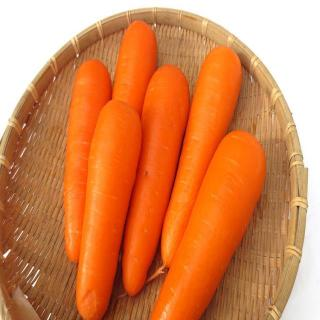carrot: (149, 130, 265, 320), (157, 42, 241, 270), (124, 62, 192, 294), (76, 99, 146, 320), (63, 57, 112, 269)
